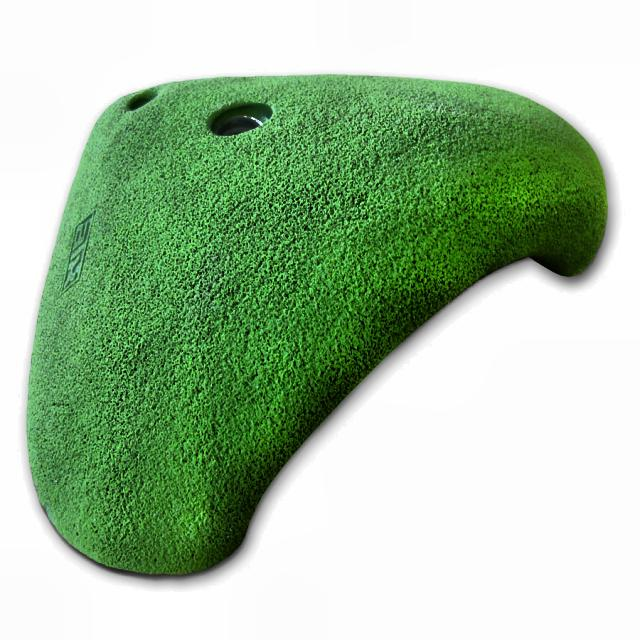Hold: (26, 69, 611, 582)
